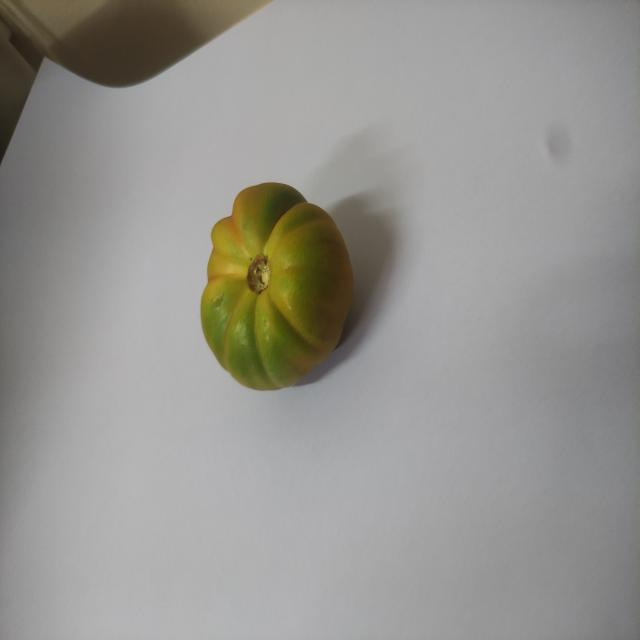yesil: (185, 166, 372, 394)
